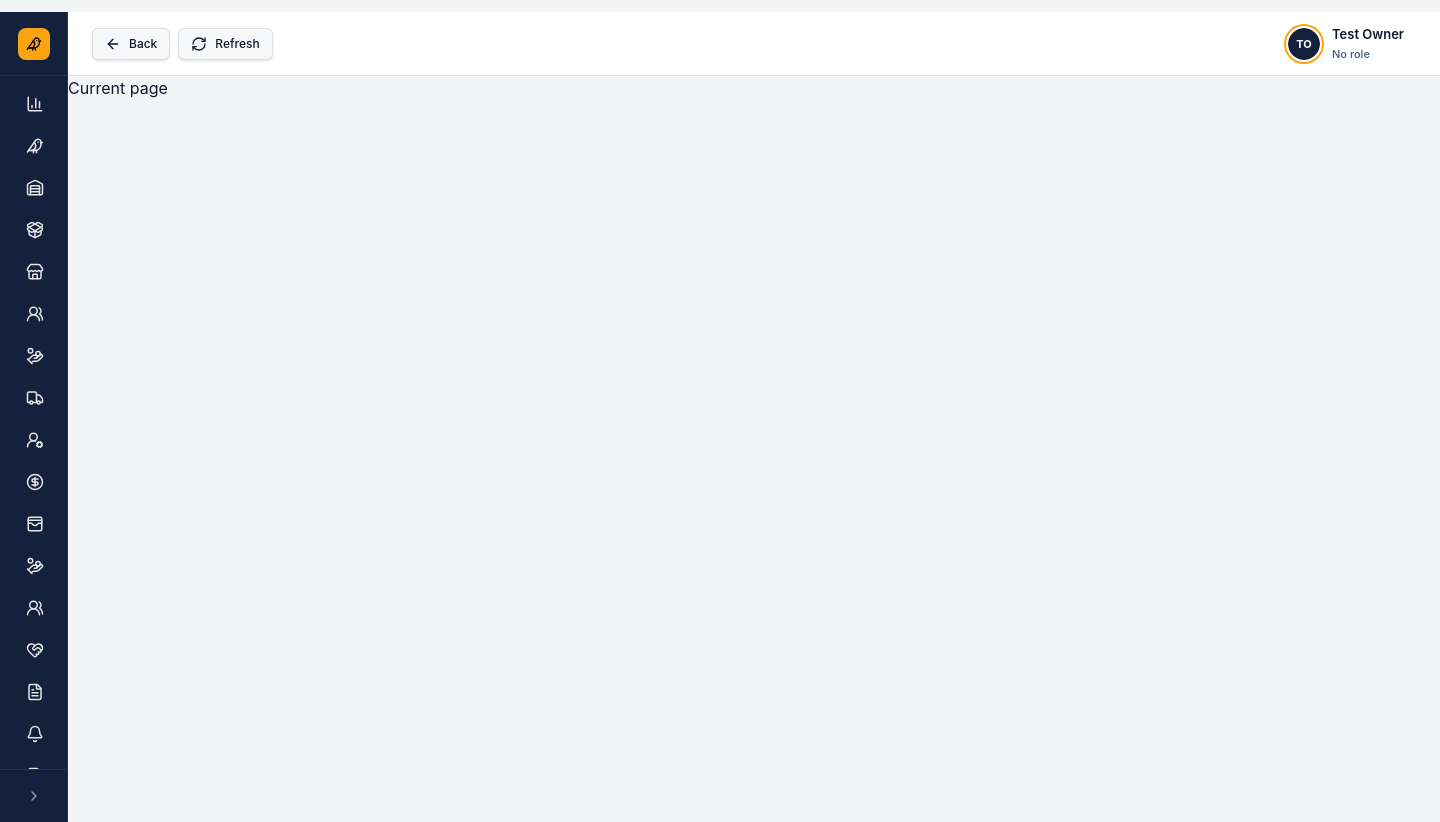
Test: AppShell sidebar preference › uses router history when back is pressed
The width and height of the screenshot is (1440, 822).
Click the button with aria-label "Go back" at (131, 44), box [92,28,170,60]
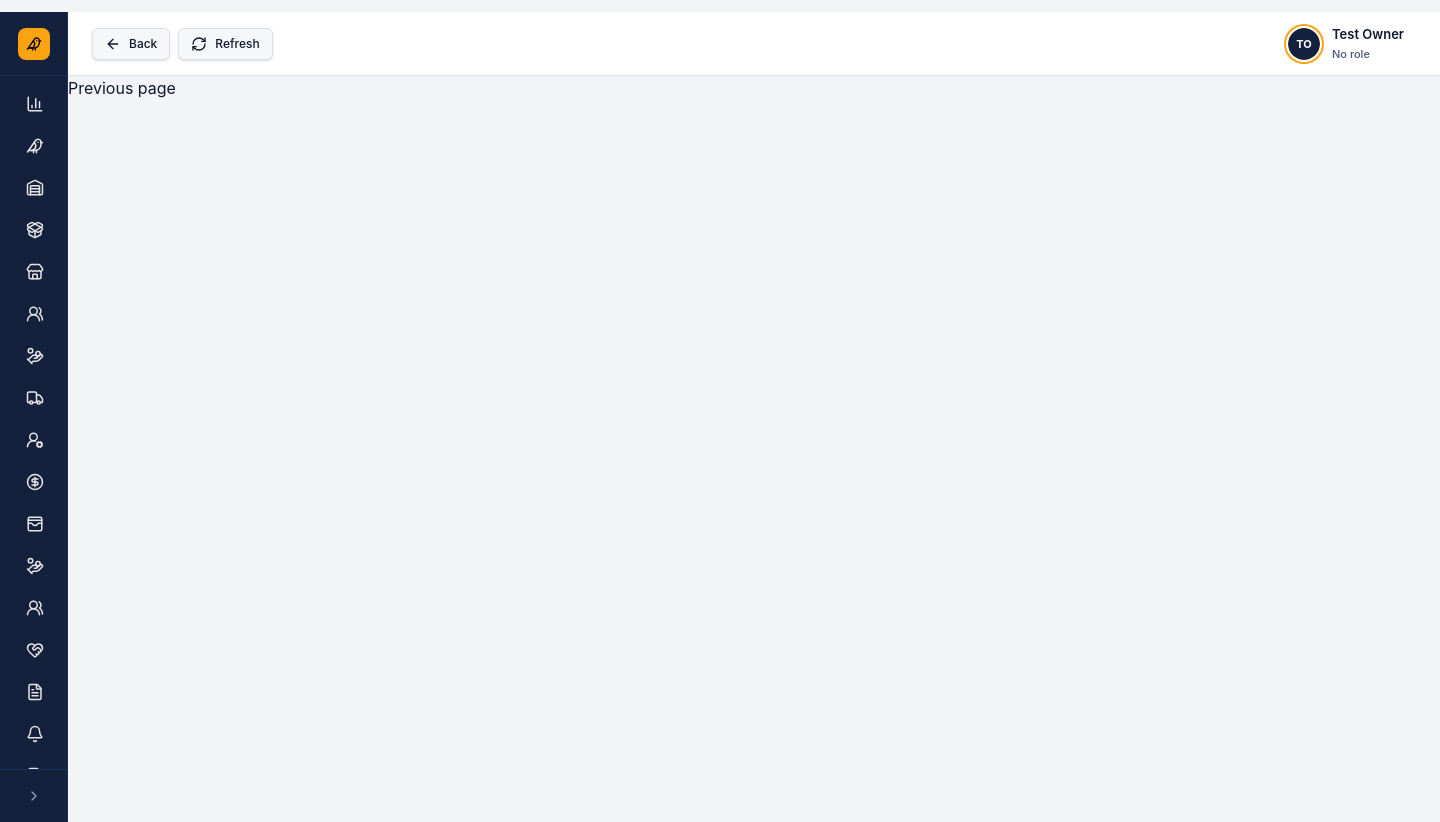
Expected: the text "Previous page" is shown, [68,78,176,98]
